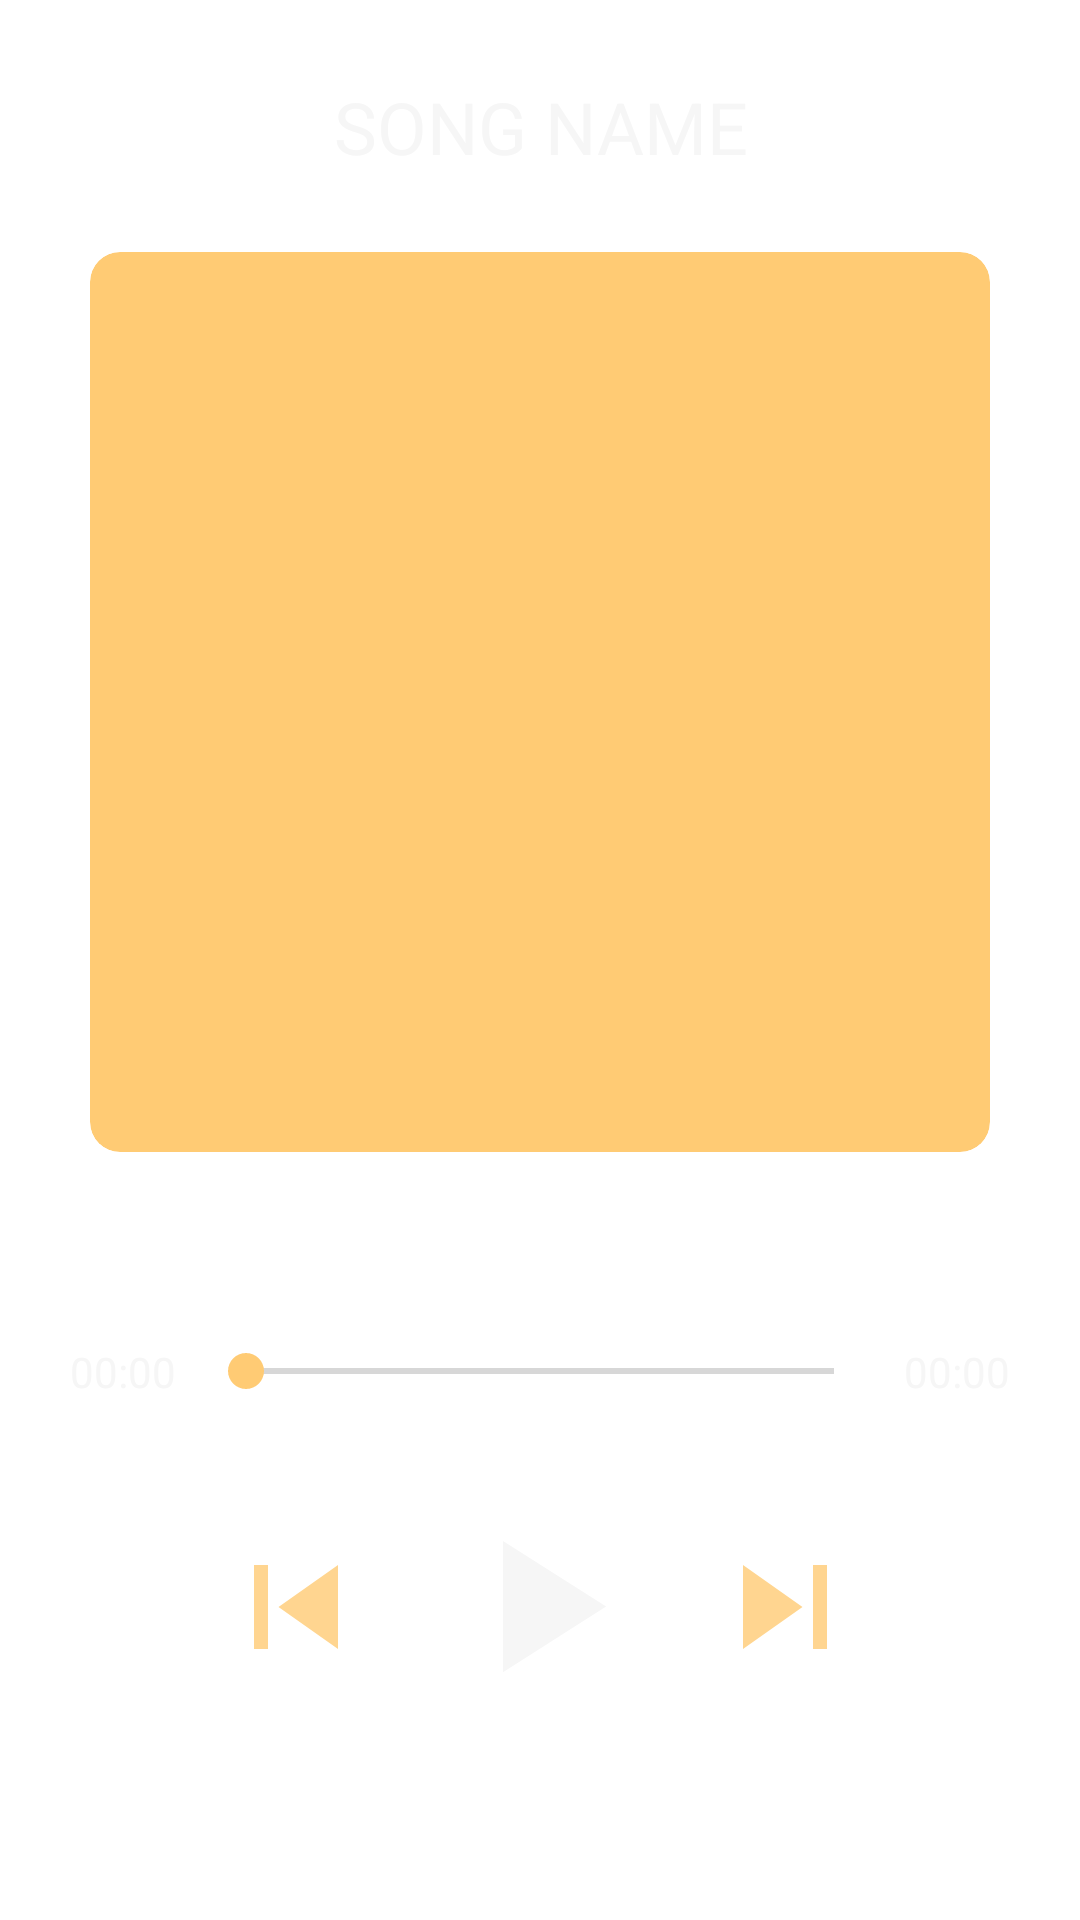

Where to tap for icons on this 1080px x 1920px app screen, as point (x, y):
skip: point (785, 1607)
skip previous: point (296, 1607)
